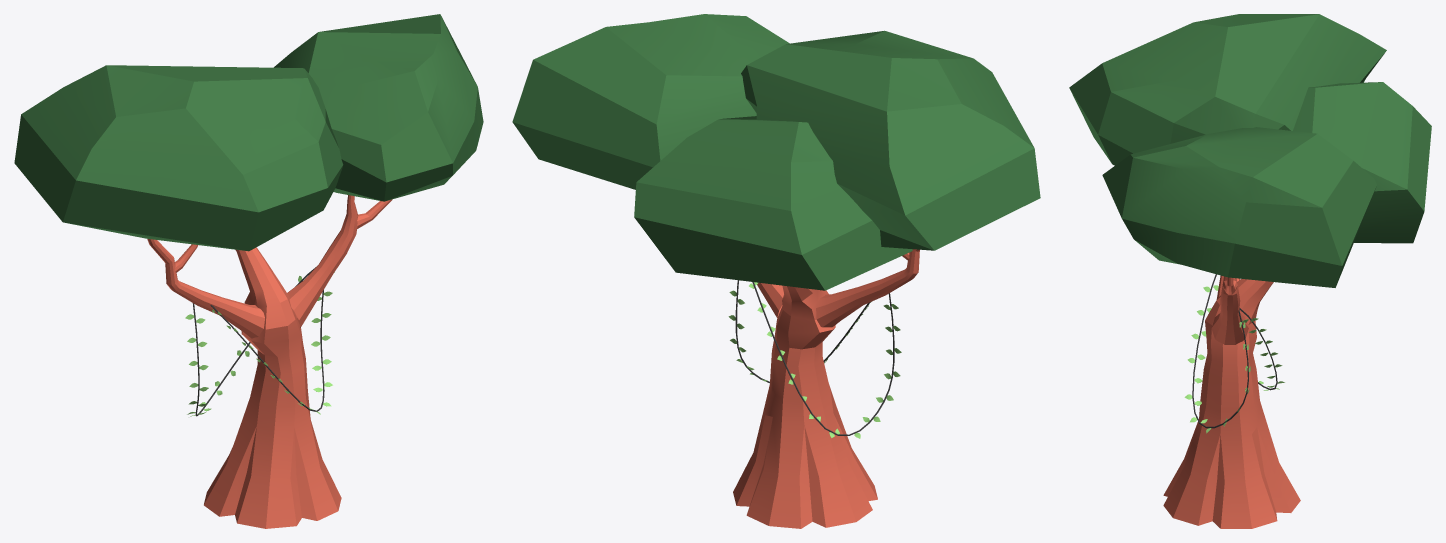
Rendered from tree_2.fbx.
3 renders of one model, left to right at view 1: azimuth 30°, elevation 25°; view 2: azimuth 150°, elevation 25°; view 3: azimuth 270°, elevation 25°, orthographic. The views are drawn at different scales.
Parts seen in each view (by area): view 1: tree_2, ivy_2, ivy_1; view 2: tree_2, ivy_1, ivy_2; view 3: tree_2, ivy_2, ivy_1.
Part boxes in pixels (x1,y1,x2,y2): tree_2: (14,14,483,528); ivy_2: (210,272,334,414); ivy_1: (185,267,315,416); tree_2: (512,14,1040,528); ivy_1: (749,282,901,438); ivy_2: (728,280,870,383); tree_2: (1069,14,1431,528); ivy_2: (1184,274,1250,433); ivy_1: (1239,308,1284,390).
Size of the model in its own units: 1213 by 1155 by 874.
